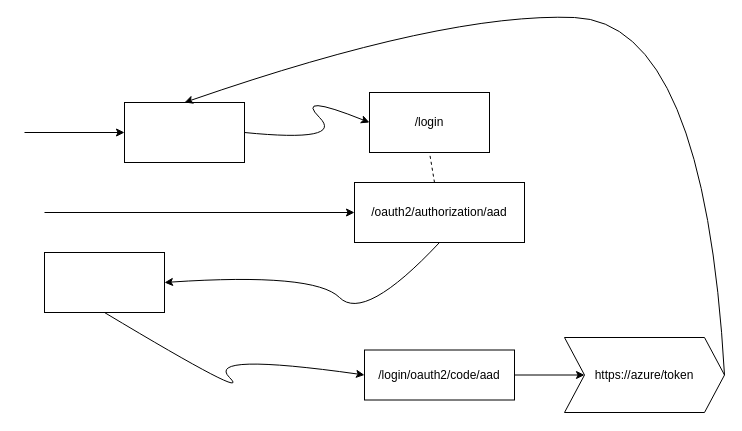
This 742x431 diagram has some shape labels left out. The shapes that lost their labels are listed below. From the top down, each one's centre as x and y in pixels, then its label:
point 184,132: /resource
point 104,282: https://azure/authorize
